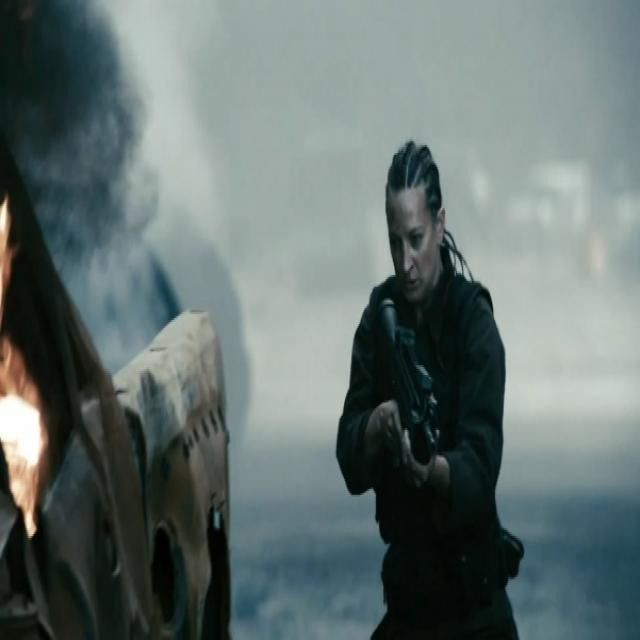rifle: (375, 293, 447, 475)
